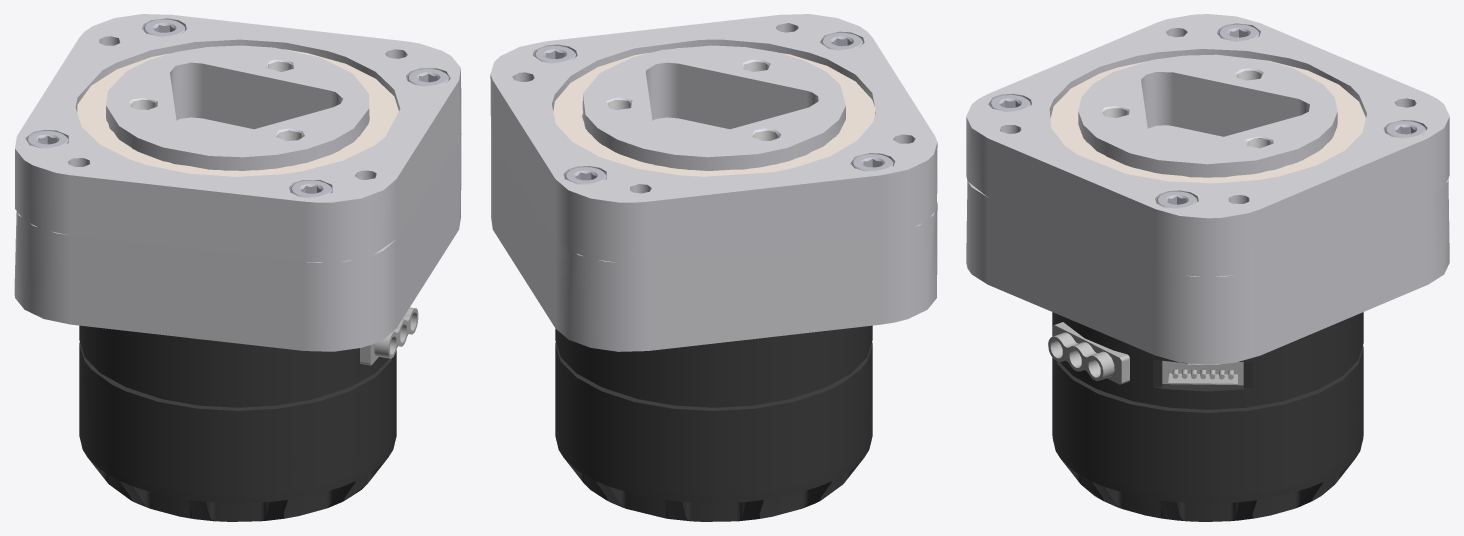
The model's file is cycloidal-gearbox-lines.glb.
3 renders of one model, left to right at view 1: azimuth 30°, elevation 25°; view 2: azimuth 150°, elevation 25°; view 3: azimuth 270°, elevation 25°, orthographic.
Visible parts, largest first — view 1: 2026, R&D, Cycloidal Gearbox, Mk2, Output Cap-1, RoboMaster M3508 P19 Brushless DC Gear Motor(2)^RM3508_NoGea (×2), 2026, R&D, Cycloidal Gearbox, Mk2, Rotor Casing-1, 2026, R&D, Cycloidal Gearbox, Mk2, Shaft-1, Bearing_35mmID_47mmOD_7W-1, 2026, R&D, Cycloidal Gearbox, Cycloidal Mk2, SocketHeadScrew_Configured-9; view 2: 2026, R&D, Cycloidal Gearbox, Mk2, Output Cap-1, RoboMaster M3508 P19 Brushless DC Gear Motor(2)^RM3508_NoGea, 2026, R&D, Cycloidal Gearbox, Mk2, Rotor Casing-1, 2026, R&D, Cycloidal Gearbox, Mk2, Shaft-1, Bearing_35mmID_47mmOD_7W-1, 2026, R&D, Cycloidal Gearbox, Cycloidal Mk2, SocketHeadScrew_Configured-9; view 3: 2026, R&D, Cycloidal Gearbox, Mk2, Output Cap-1, RoboMaster M3508 P19 Brushless DC Gear Motor(2)^RM3508_NoGea (×3), 2026, R&D, Cycloidal Gearbox, Mk2, Rotor Casing-1, 2026, R&D, Cycloidal Gearbox, Mk2, Shaft-1, Bearing_35mmID_47mmOD_7W-1, 2026, R&D, Cycloidal Gearbox, Cycloidal Mk2, SocketHeadScrew_Configured-9.
Boxes of the visible parts, bbox=[...] form: 2026, R&D, Cycloidal Gearbox, Mk2, Output Cap-1: bbox=[15, 14, 461, 262]; RoboMaster M3508 P19 Brushless DC Gear Motor(2)^RM3508_NoGea (×2): bbox=[79, 307, 418, 521]; 2026, R&D, Cycloidal Gearbox, Mk2, Rotor Casing-1: bbox=[14, 135, 461, 351]; 2026, R&D, Cycloidal Gearbox, Mk2, Shaft-1: bbox=[106, 45, 369, 170]; Bearing_35mmID_47mmOD_7W-1: bbox=[77, 49, 398, 176]; 2026, R&D, Cycloidal Gearbox, Cycloidal Mk2: bbox=[144, 19, 448, 198]; SocketHeadScrew_Configured-9: bbox=[27, 131, 68, 148]; 2026, R&D, Cycloidal Gearbox, Mk2, Output Cap-1: bbox=[490, 14, 937, 262]; RoboMaster M3508 P19 Brushless DC Gear Motor(2)^RM3508_NoGea: bbox=[555, 325, 872, 521]; 2026, R&D, Cycloidal Gearbox, Mk2, Rotor Casing-1: bbox=[491, 130, 937, 351]; 2026, R&D, Cycloidal Gearbox, Mk2, Shaft-1: bbox=[582, 45, 845, 170]; Bearing_35mmID_47mmOD_7W-1: bbox=[553, 47, 875, 176]; 2026, R&D, Cycloidal Gearbox, Cycloidal Mk2: bbox=[534, 33, 862, 184]; SocketHeadScrew_Configured-9: bbox=[852, 154, 893, 171]; 2026, R&D, Cycloidal Gearbox, Mk2, Output Cap-1: bbox=[966, 14, 1449, 277]; RoboMaster M3508 P19 Brushless DC Gear Motor(2)^RM3508_NoGea (×3): bbox=[1048, 312, 1363, 521]; 2026, R&D, Cycloidal Gearbox, Mk2, Rotor Casing-1: bbox=[966, 178, 1449, 364]; 2026, R&D, Cycloidal Gearbox, Mk2, Shaft-1: bbox=[1078, 54, 1337, 177]; Bearing_35mmID_47mmOD_7W-1: bbox=[1050, 59, 1365, 183]; 2026, R&D, Cycloidal Gearbox, Cycloidal Mk2: bbox=[990, 95, 1425, 208]; SocketHeadScrew_Configured-9: bbox=[1218, 24, 1259, 41].
Size of the model in its own units: 0.0653 by 0.0579 by 0.0653.
